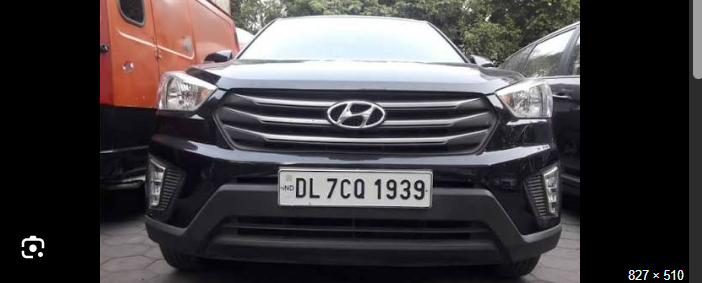licence: (279, 172, 431, 209)
